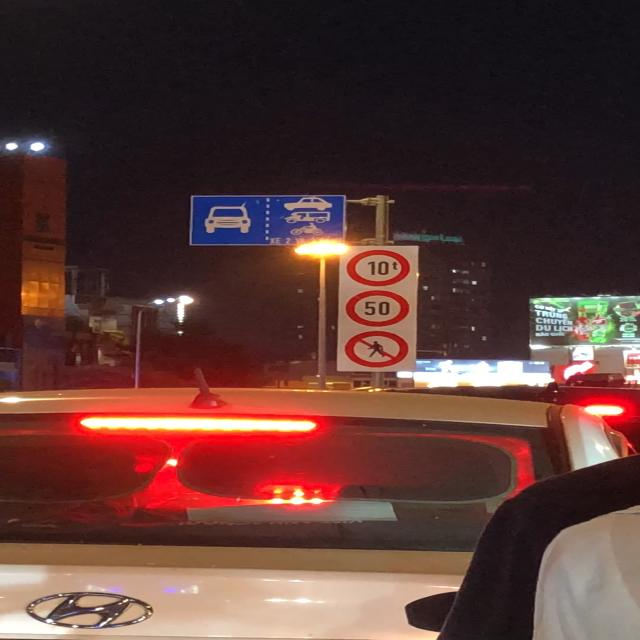Bien bao cam nguoi di bo: (343, 329, 410, 369)
Bien bao toc do toi da cho phep: (345, 288, 412, 328)
